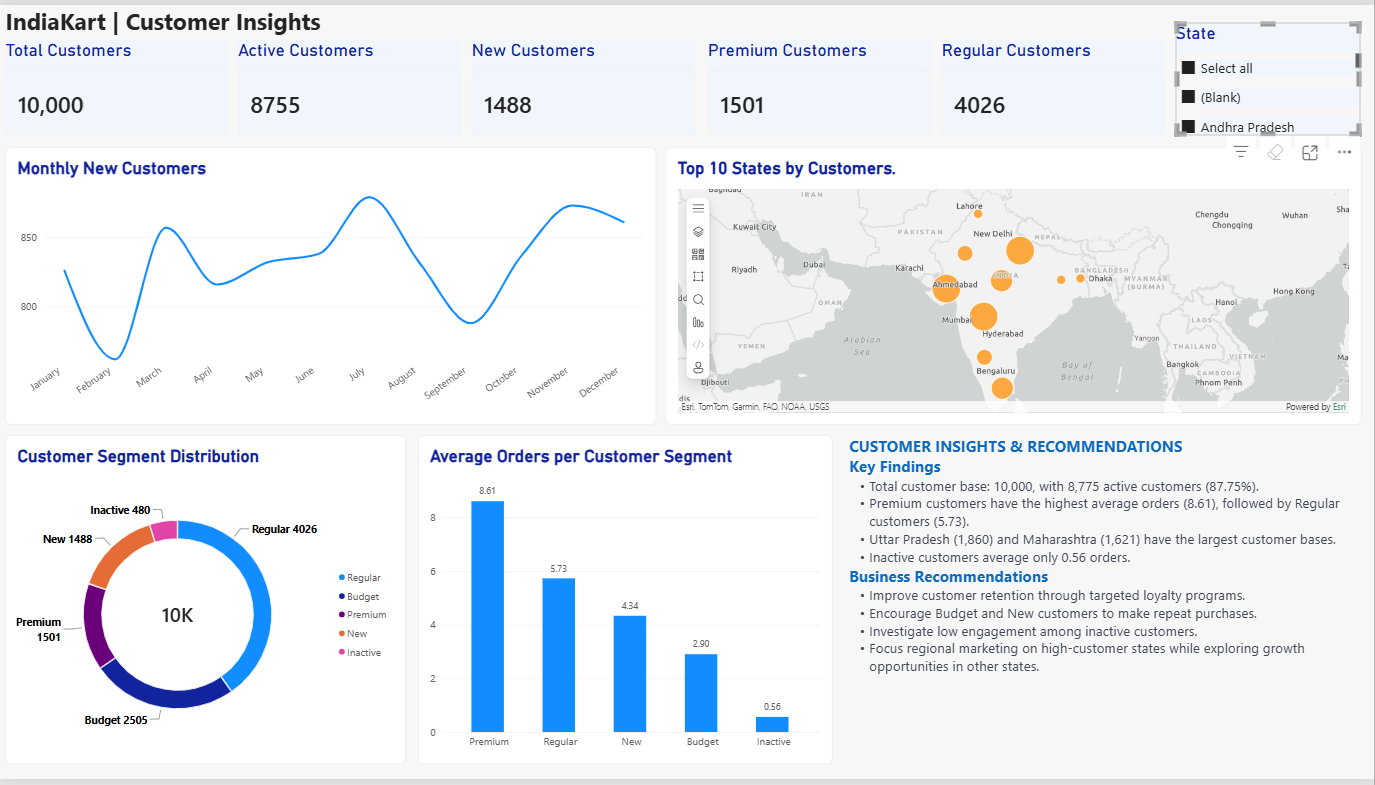

The dashboard page shown, as its layout file describes it:
{"tool":"powerbi","page":{"name":"Customer Insights","canvas":[1920,1080],"ordinal":2},"visuals":[{"type":"textbox","box":[10.8,0,718.6,48.6],"z":0},{"type":"cardVisual","title":"Total Customers","fields":{"Data":["customers DA.Total Customers"]},"box":[10.8,48.6,311.6,133.3],"z":1000},{"type":"cardVisual","title":"Active Customers","fields":{"Data":["customers DA.Active Customers"]},"box":[335,48.6,311.6,133.3],"z":2000},{"type":"cardVisual","title":"New Customers","fields":{"Data":["customers DA.New Customers"]},"box":[661,48.6,311.6,133.3],"z":3000},{"type":"cardVisual","title":"Premium Customers","fields":{"Data":["customers DA.Premium Customers"]},"box":[990.6,48.6,311.6,133.3],"z":4000},{"type":"cardVisual","title":"Regular Customers","fields":{"Data":["customers DA.Regular Customers"]},"box":[1316.6,48.6,311.6,133.3],"z":5000},{"type":"lineChart","title":"Monthly New Customers","fields":{"Category":["customers DA.registration_date.Variation.Date Hierarchy.Year","customers DA.registration_date.Variation.Date Hierarchy.Quarter","customers DA.registration_date.Variation.Date Hierarchy.Month","customers DA.registration_date.Variation.Date Hierarchy.Day"],"Y":["CountNonNull(customers DA.customer_id)"]},"box":[10.8,198.1,907.8,387.2],"z":6000},{"type":"esriVisual","title":"Top 10 States by Customers.","fields":{"Location":["customers DA.State Location"],"Size":["Count(customers DA.customer_id)"]},"box":[931.2,198.1,970.8,387.2],"z":7000},{"type":"donutChart","title":"Customer Segment Distribution","fields":{"Category":["customers DA.segment"],"Y":["CountNonNull(customers DA.customer_id)"]},"box":[10.8,599.8,558.3,459.3],"z":8000},{"type":"clusteredColumnChart","title":"Average Orders per Customer Segment","fields":{"Category":["customers DA.segment"],"Y":["Avg(customers DA.total_orders)"]},"box":[585.4,599.8,578.2,459.3],"z":9000},{"type":"slicer","title":"State","fields":{"Values":["customers DA.state"]},"box":[1642.6,25.2,259.4,156.7],"z":10000},{"type":"textbox","box":[1186.9,599.8,686.2,459.3],"z":11000}]}

Visuals, with their boxes on the page's 1920x1080 design canvas (x1, y1, x2, y2). These are canvas units, not pixel positions in the 1375x785 screenshot, which may show the page scaled, cropped or inside an application window:
textbox: l=11, t=0, r=729, b=49
"Total Customers" cardVisual: l=11, t=49, r=322, b=182
"Active Customers" cardVisual: l=335, t=49, r=647, b=182
"New Customers" cardVisual: l=661, t=49, r=973, b=182
"Premium Customers" cardVisual: l=991, t=49, r=1302, b=182
"Regular Customers" cardVisual: l=1317, t=49, r=1628, b=182
"Monthly New Customers" lineChart: l=11, t=198, r=919, b=585
"Top 10 States by Customers." esriVisual: l=931, t=198, r=1902, b=585
"Customer Segment Distribution" donutChart: l=11, t=600, r=569, b=1059
"Average Orders per Customer Segment" clusteredColumnChart: l=585, t=600, r=1164, b=1059
"State" slicer: l=1643, t=25, r=1902, b=182
textbox: l=1187, t=600, r=1873, b=1059
